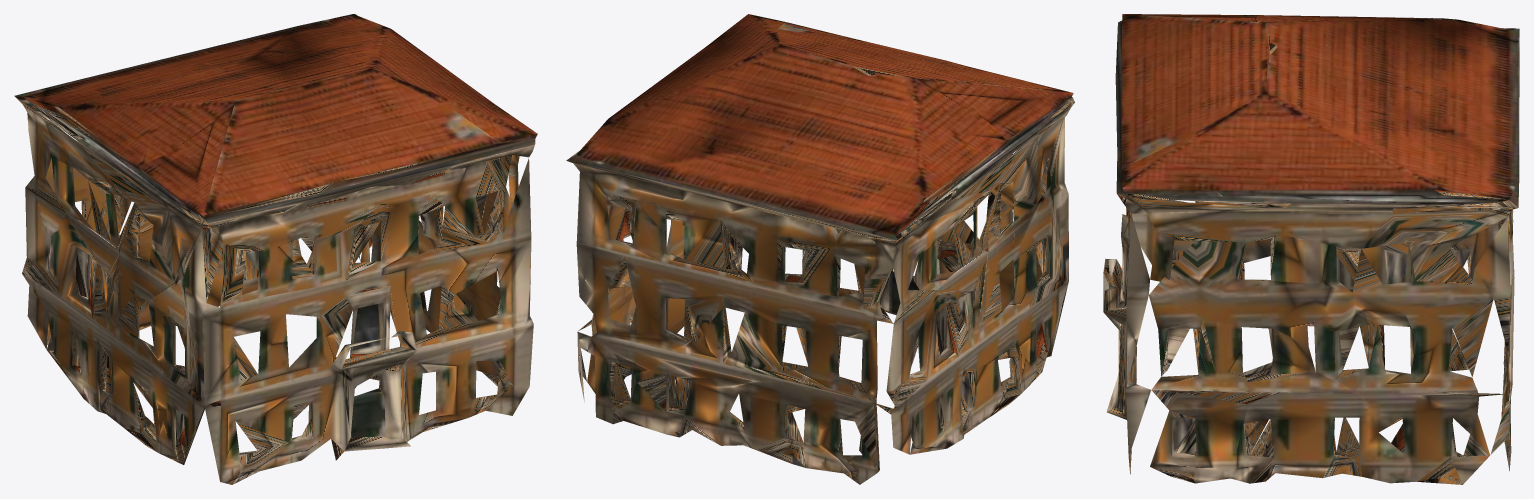
The model's file is home-school.lod.glb.
The picture shows the model from 3 angles, left to right: view 1: azimuth 30°, elevation 25°; view 2: azimuth 150°, elevation 25°; view 3: azimuth 270°, elevation 25°; orthographic projection. The views are drawn at different scales.
Parts seen in each view (by area): view 1: world; view 2: world; view 3: world.
Part boxes in pixels (left/top/right/bottom): world: left=14, top=14, right=537, bottom=484; world: left=566, top=14, right=1074, bottom=484; world: left=1103, top=14, right=1519, bottom=484.
Size of the model in its own units: 1.12 by 0.9941 by 1.09.
Materials: 1 (1 with a texture image).
